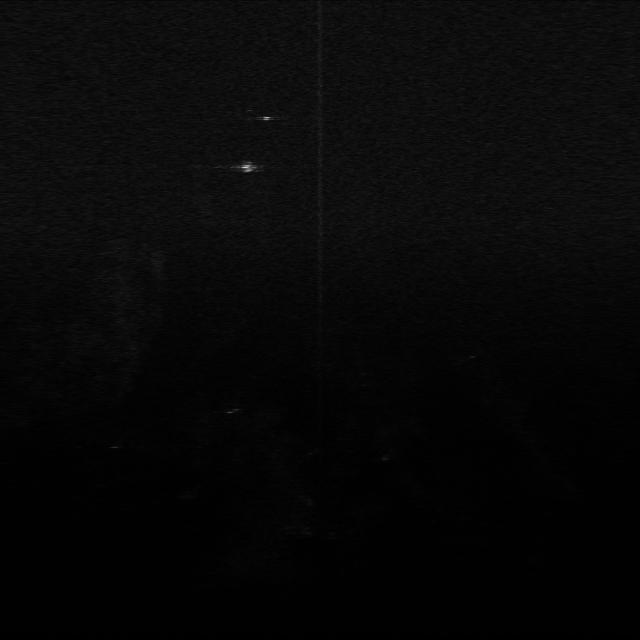rov: (236, 158, 260, 178)
